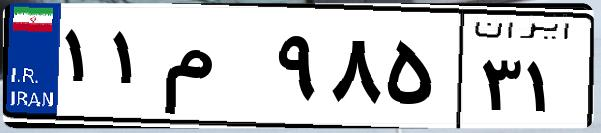1: (57, 26, 110, 100), (525, 38, 570, 115), (110, 28, 158, 98)
3: (475, 38, 525, 113)
5: (385, 28, 445, 110)
8: (330, 28, 385, 110)
9: (270, 28, 330, 110)
م: (158, 20, 270, 120)
